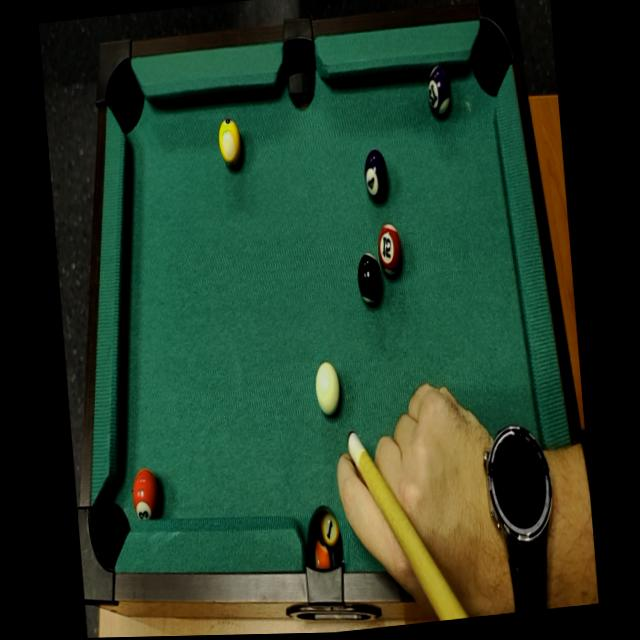cue ball: (310, 355, 344, 422)
other: (129, 464, 166, 527), (359, 144, 391, 211), (424, 62, 457, 126), (355, 246, 384, 313), (375, 218, 405, 281), (214, 112, 243, 171)
